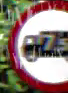Heavy Vehicles: (9, 1, 67, 92)
